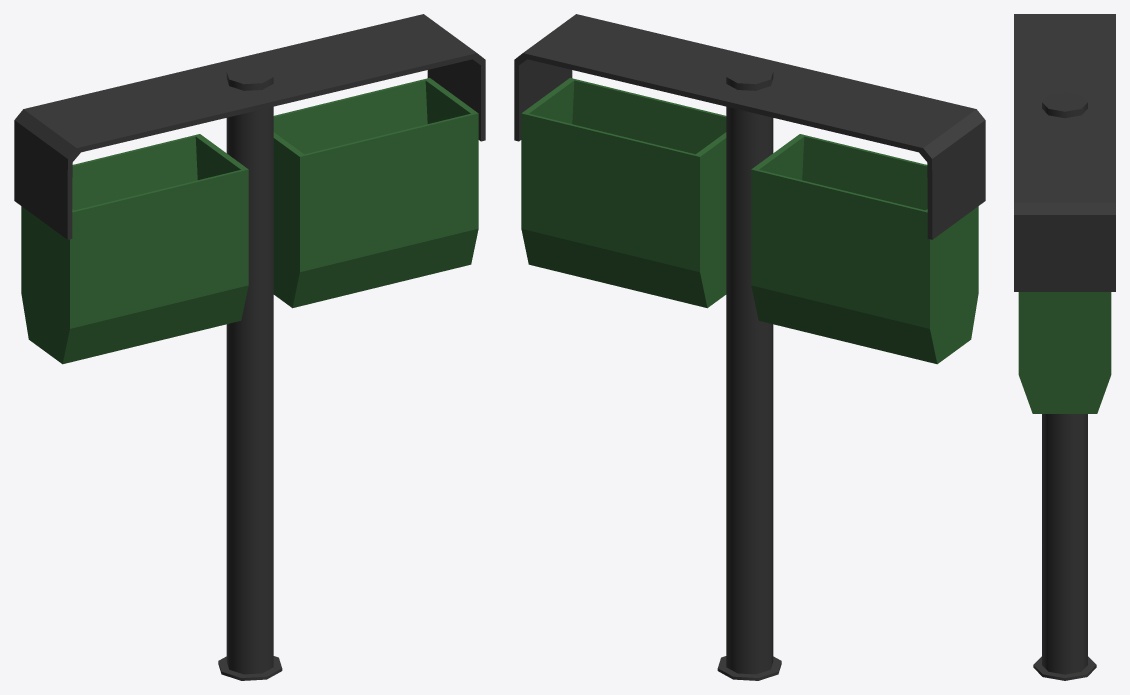
Rendered from DoubleTrash.fbx.
The picture shows the model from 3 angles, left to right: view 1: azimuth 30°, elevation 25°; view 2: azimuth 150°, elevation 25°; view 3: azimuth 270°, elevation 25°; orthographic projection. The views are drawn at different scales.
Parts seen in each view (by area): view 1: Lixeira2; view 2: Lixeira2; view 3: Lixeira2.
Boxes of the visible parts, bbox=[...] form: Lixeira2: bbox=[14, 14, 485, 680]; Lixeira2: bbox=[514, 14, 985, 680]; Lixeira2: bbox=[1014, 14, 1115, 680].
Size of the model in its own units: 92.18 by 125 by 20.38.
